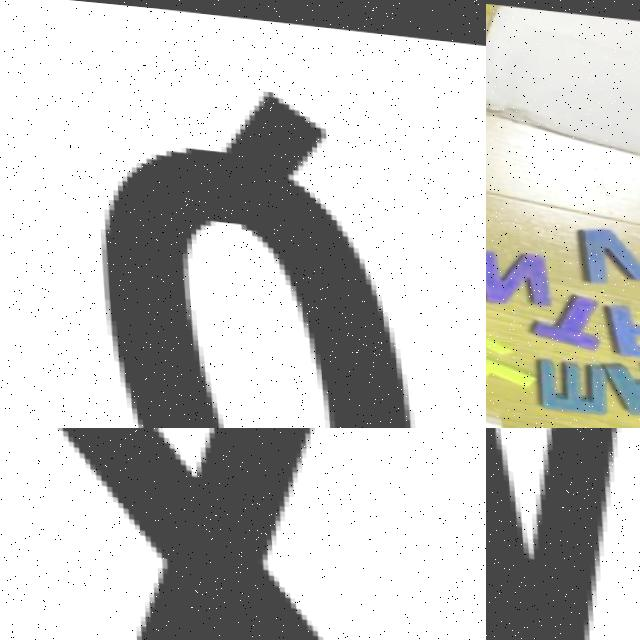K: (608, 341, 640, 407)
L: (486, 343, 524, 401)
M: (536, 348, 602, 404)
N: (486, 428, 640, 640), (486, 239, 546, 298)
P: (592, 290, 640, 351)
Q: (68, 64, 429, 428)
T: (527, 283, 599, 342)
V: (563, 214, 640, 277)
X: (0, 428, 470, 640), (486, 295, 510, 358)
